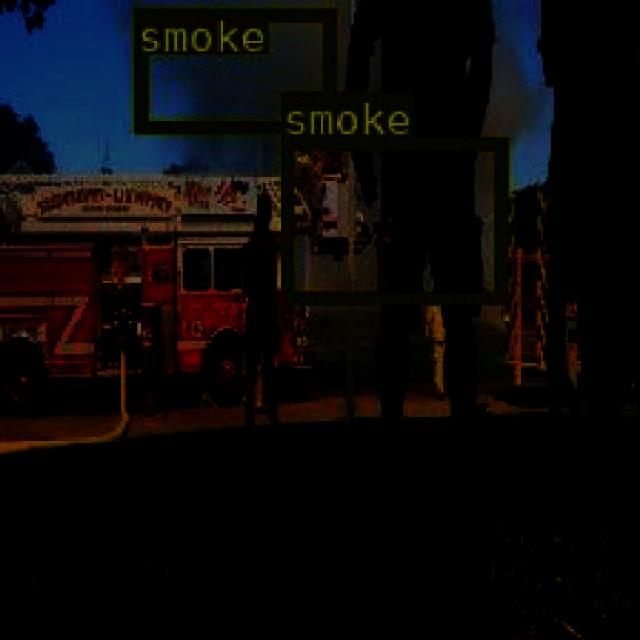smoke: (279, 136, 504, 302), (132, 7, 332, 132)
